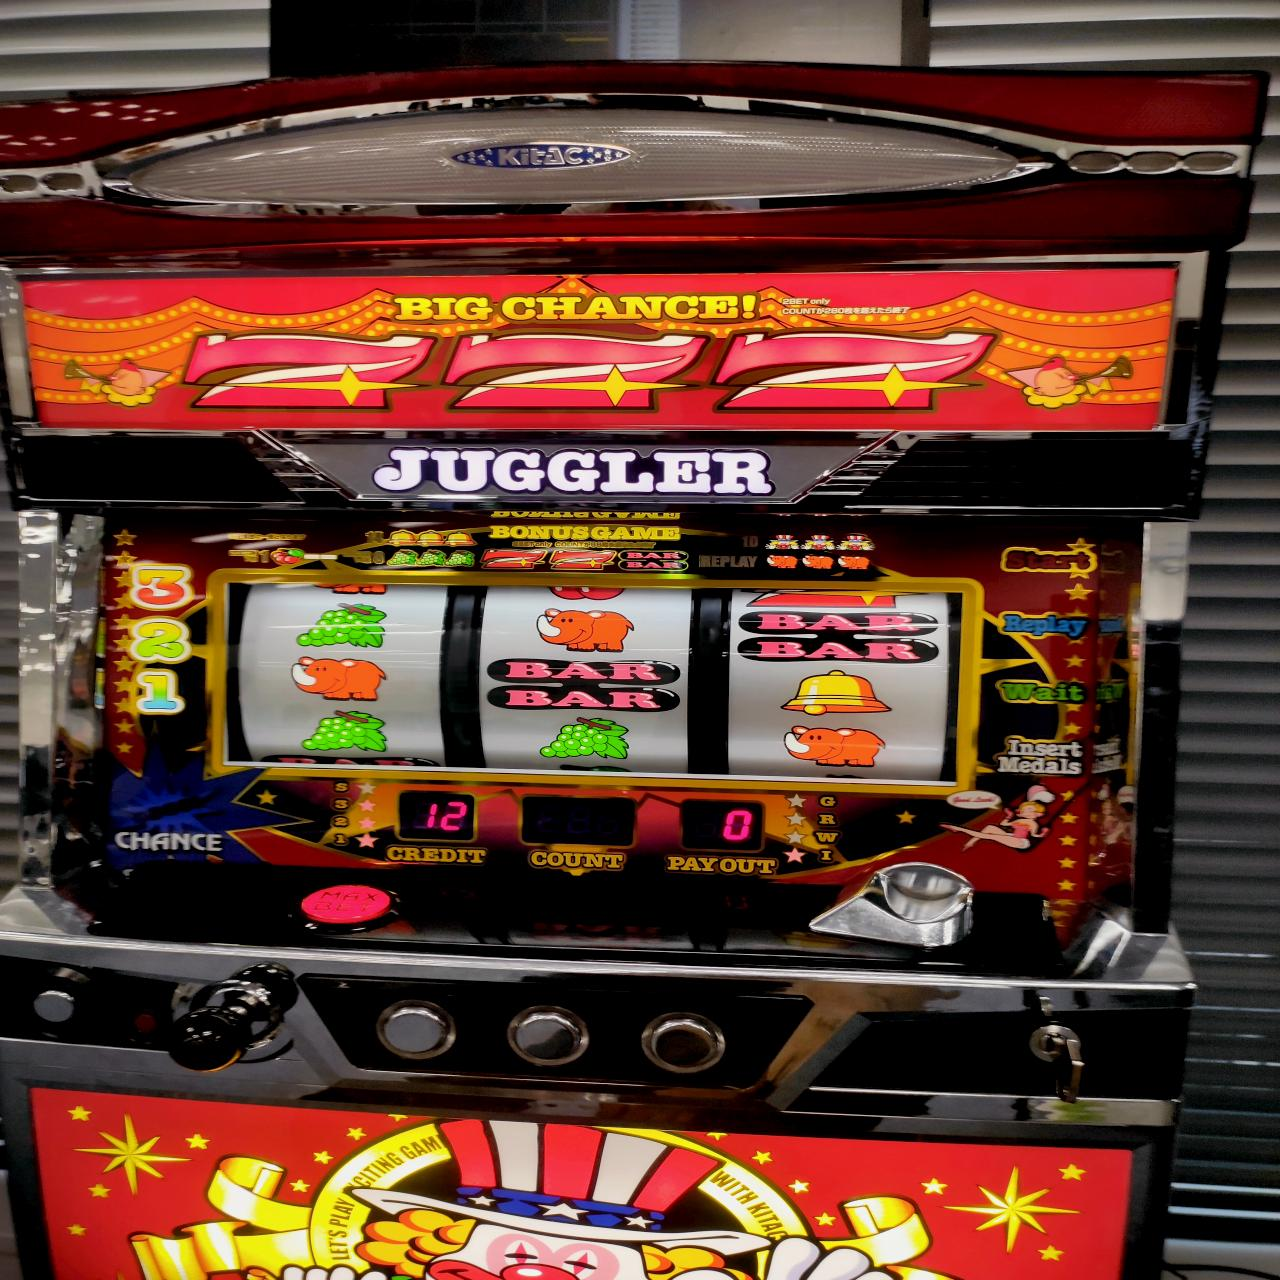8: (291, 655, 386, 701), (782, 726, 887, 767), (537, 607, 635, 651)
Display: (222, 574, 962, 790)
bar: (484, 658, 683, 714), (738, 610, 938, 663)
bell: (775, 670, 894, 716)
grape: (294, 602, 390, 652), (538, 716, 633, 758), (302, 710, 386, 751)
